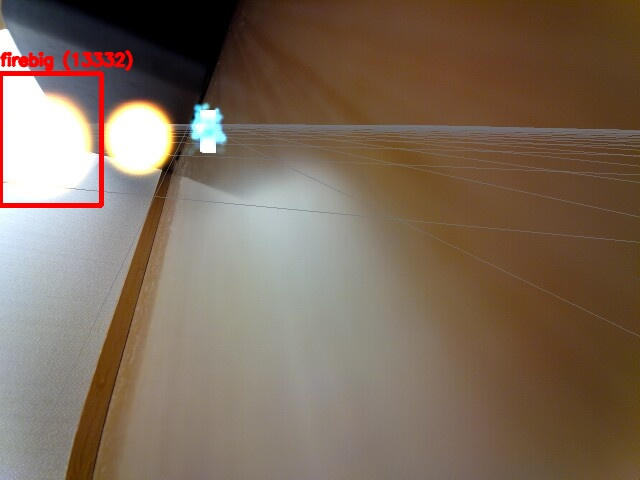firebig: (0, 73, 101, 205)
